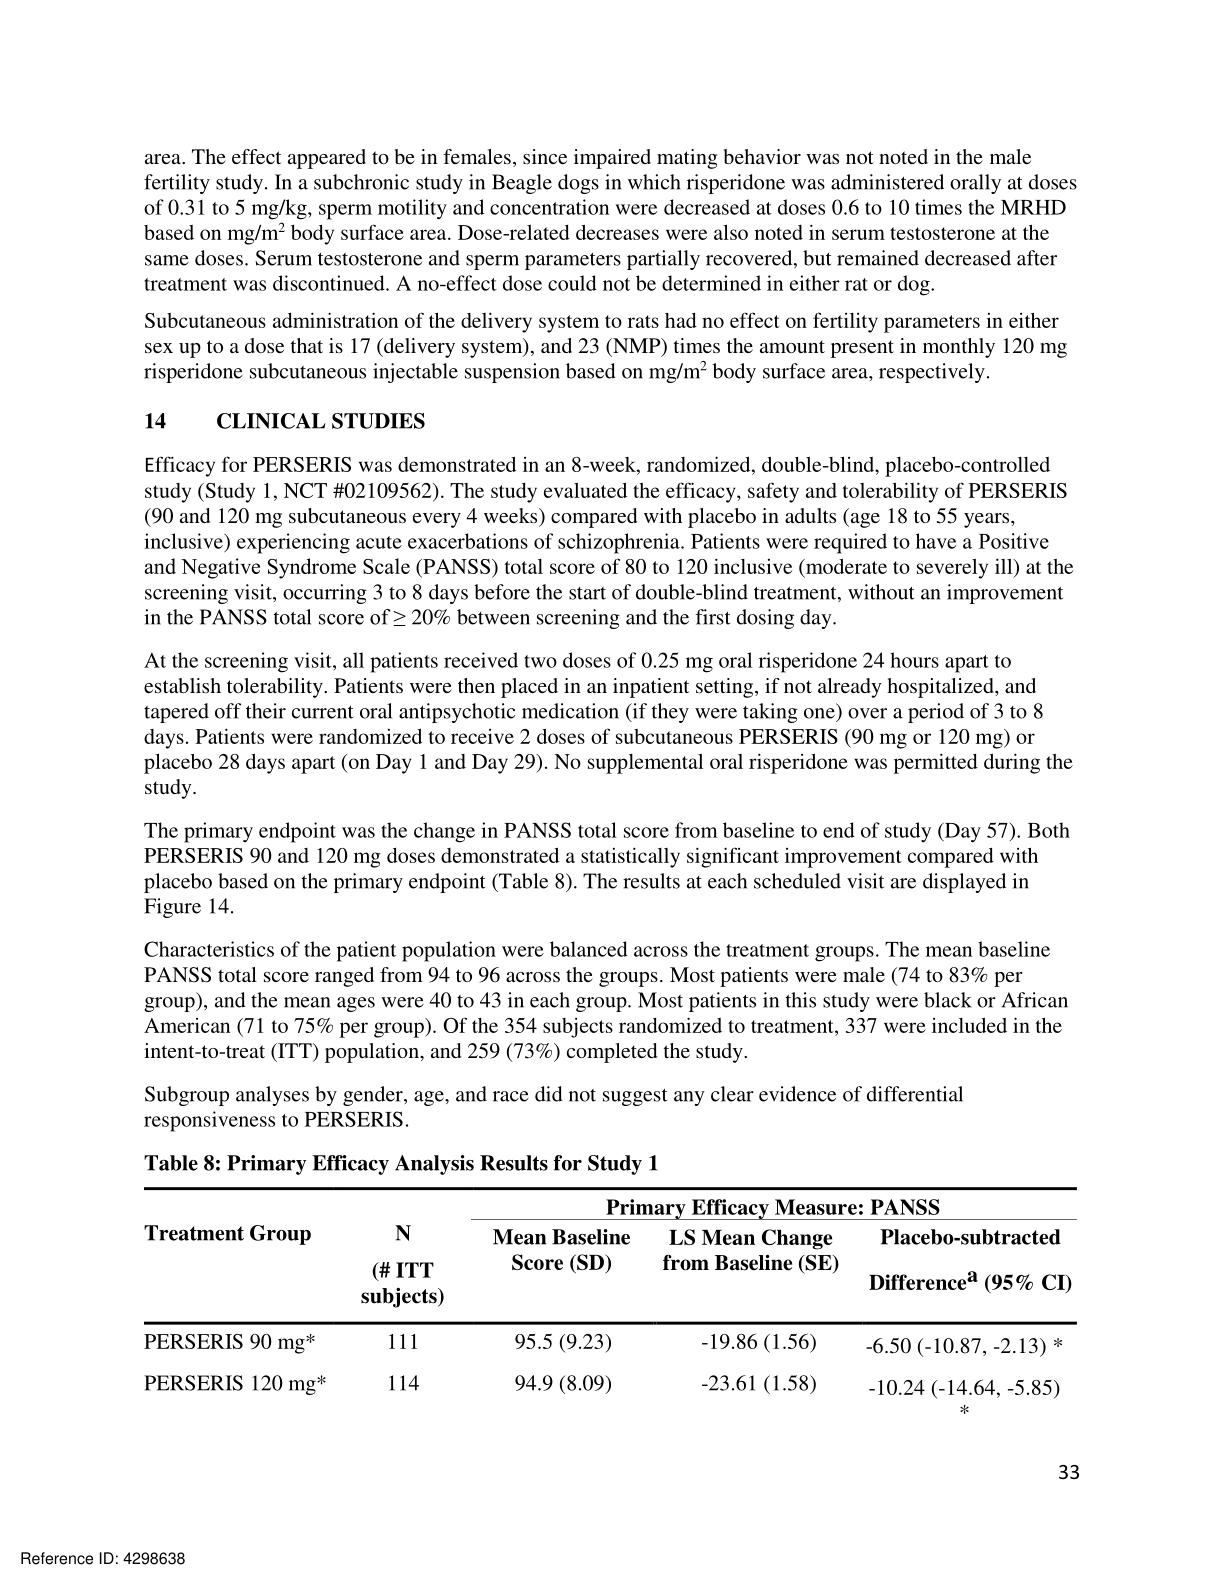partial_lined_merged_cells: (140, 1185, 1076, 1403)
